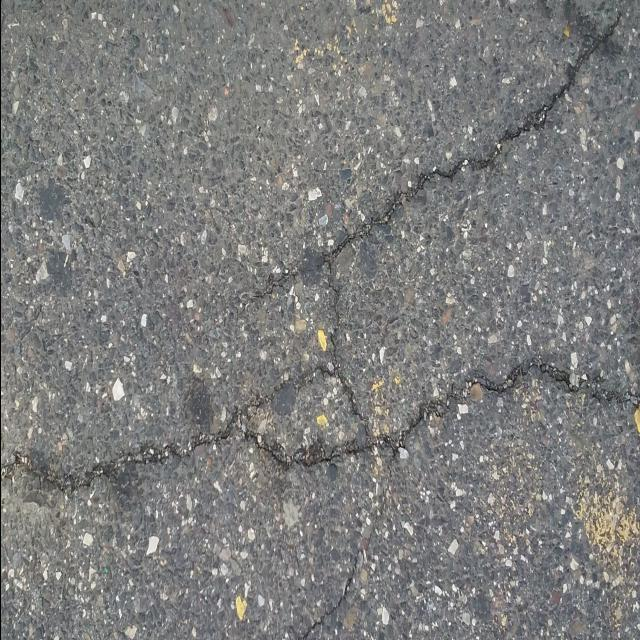Crack: (0, 16, 640, 498), (297, 468, 390, 640)
